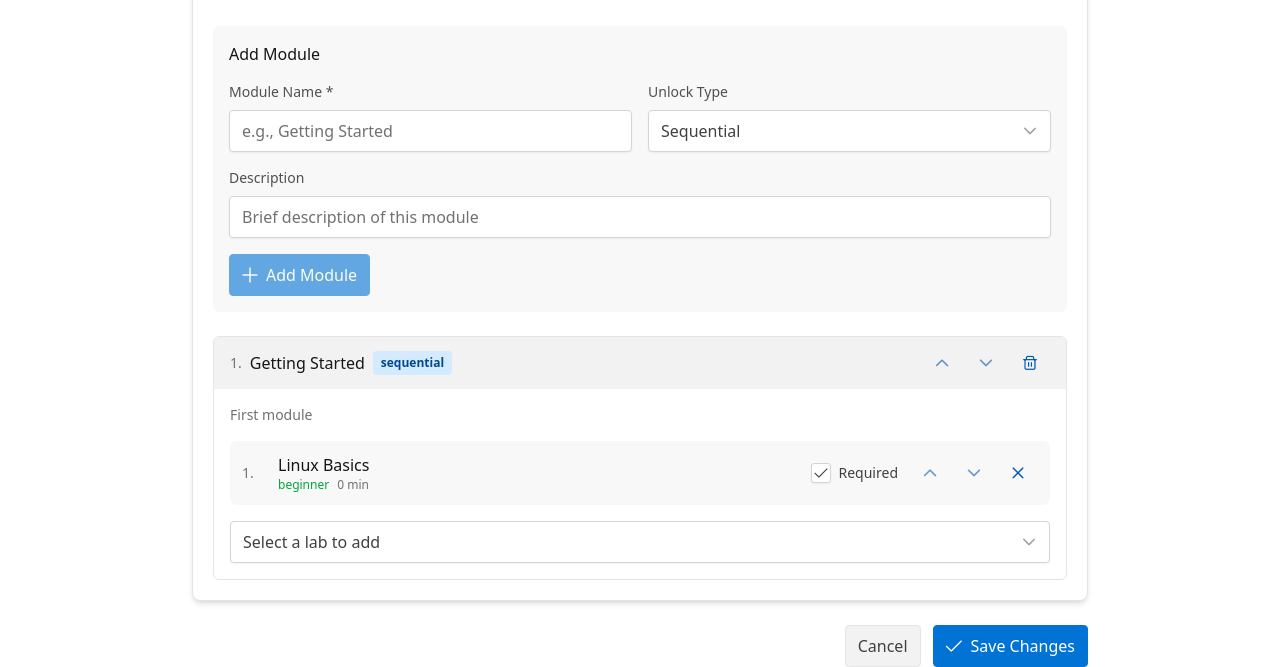
Scenario: EditPathwayView › editing modules › should mark module as deleted
(page scrolled)
Click the 4th button at (1030, 363), box [1010,349,1050,377]
(page scrolled)
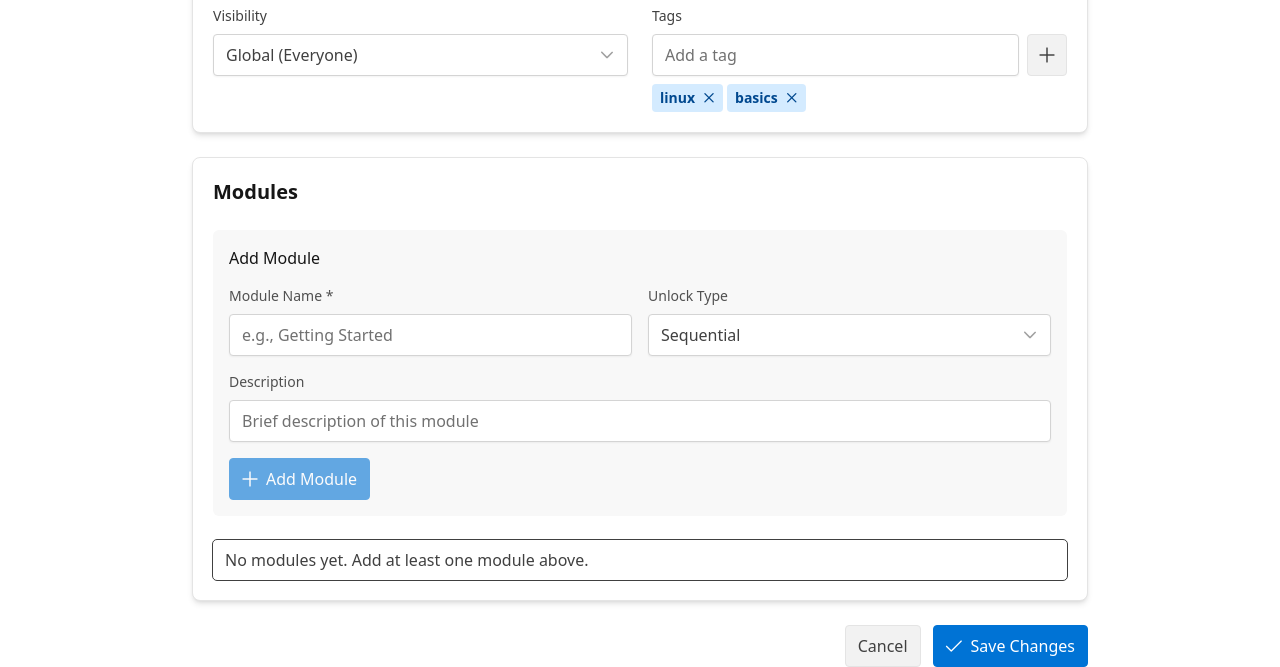
Expected: the text "No modules yet" is shown, [225,549,588,571]
